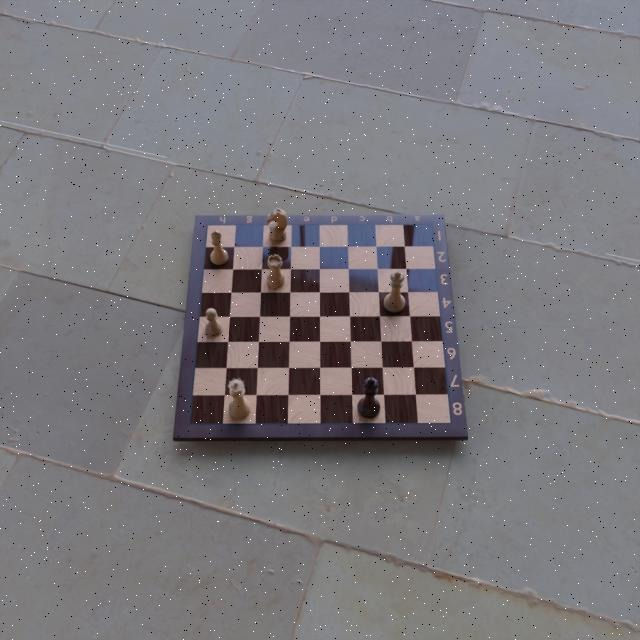black-king: (358, 374, 382, 419)
white-bishop: (211, 229, 229, 266)
white-king: (381, 270, 406, 316)
white-knight: (265, 207, 291, 243)
white-pawn: (203, 306, 223, 337)
white-queen: (225, 374, 250, 422)
white-rook: (265, 252, 287, 291)
